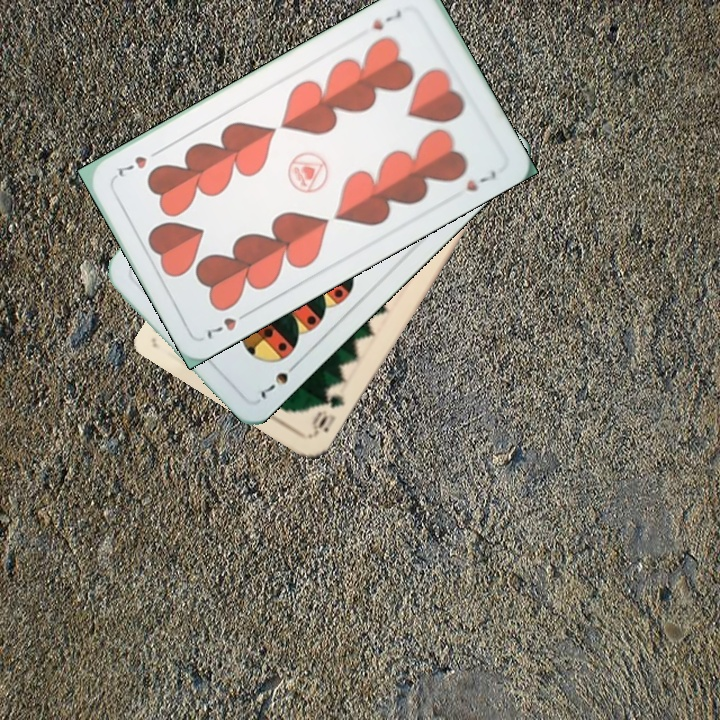G10: (307, 391, 347, 438)
H7: (200, 306, 254, 342), (368, 6, 404, 33)
S7: (256, 357, 301, 403)
